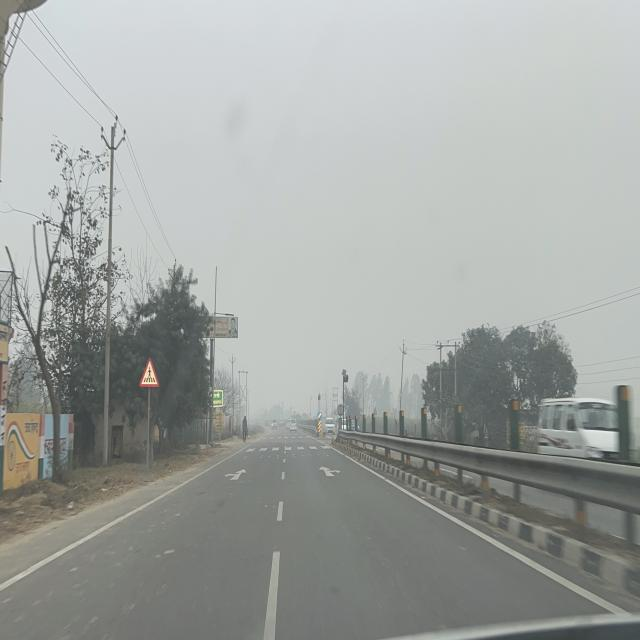GENERAL: (206, 390, 224, 407)
KEEP_LEFT: (317, 411, 322, 420)
PEDESTRIAN_CROSSING: (139, 357, 160, 388)
